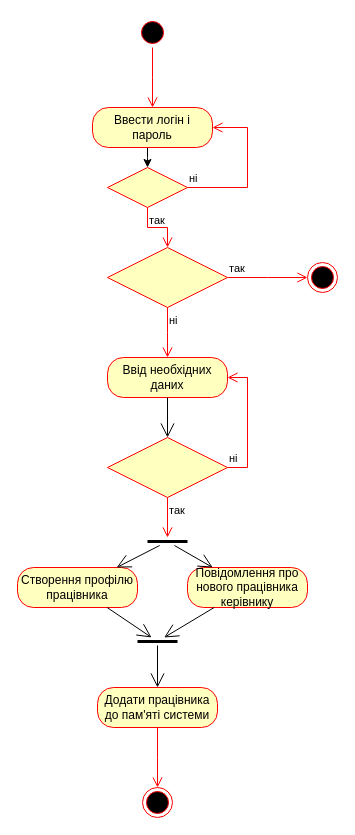
This 355x835 diagram has some shape labels left out. Each missing label, with the box of its shape:
Введення коректне?: (106, 166, 188, 208)
Дані коректні?: (106, 436, 228, 498)
Як звичайний працівник?: (106, 246, 228, 308)
